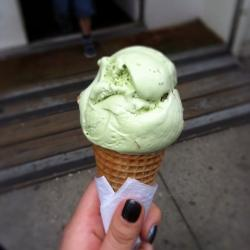icecream: (66, 39, 193, 159)
